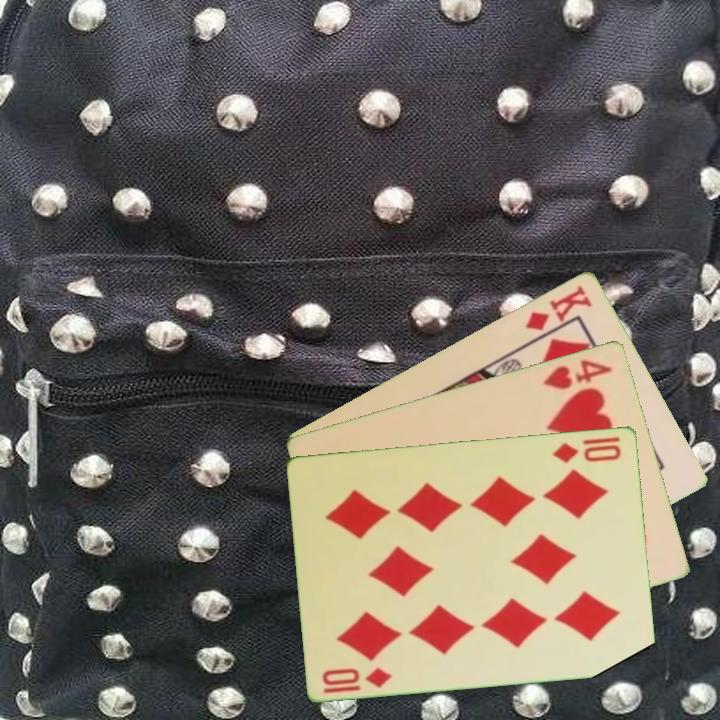10d: (319, 664, 395, 696), (549, 438, 625, 465)
4h: (539, 355, 616, 392)
Kd: (521, 280, 595, 334)
